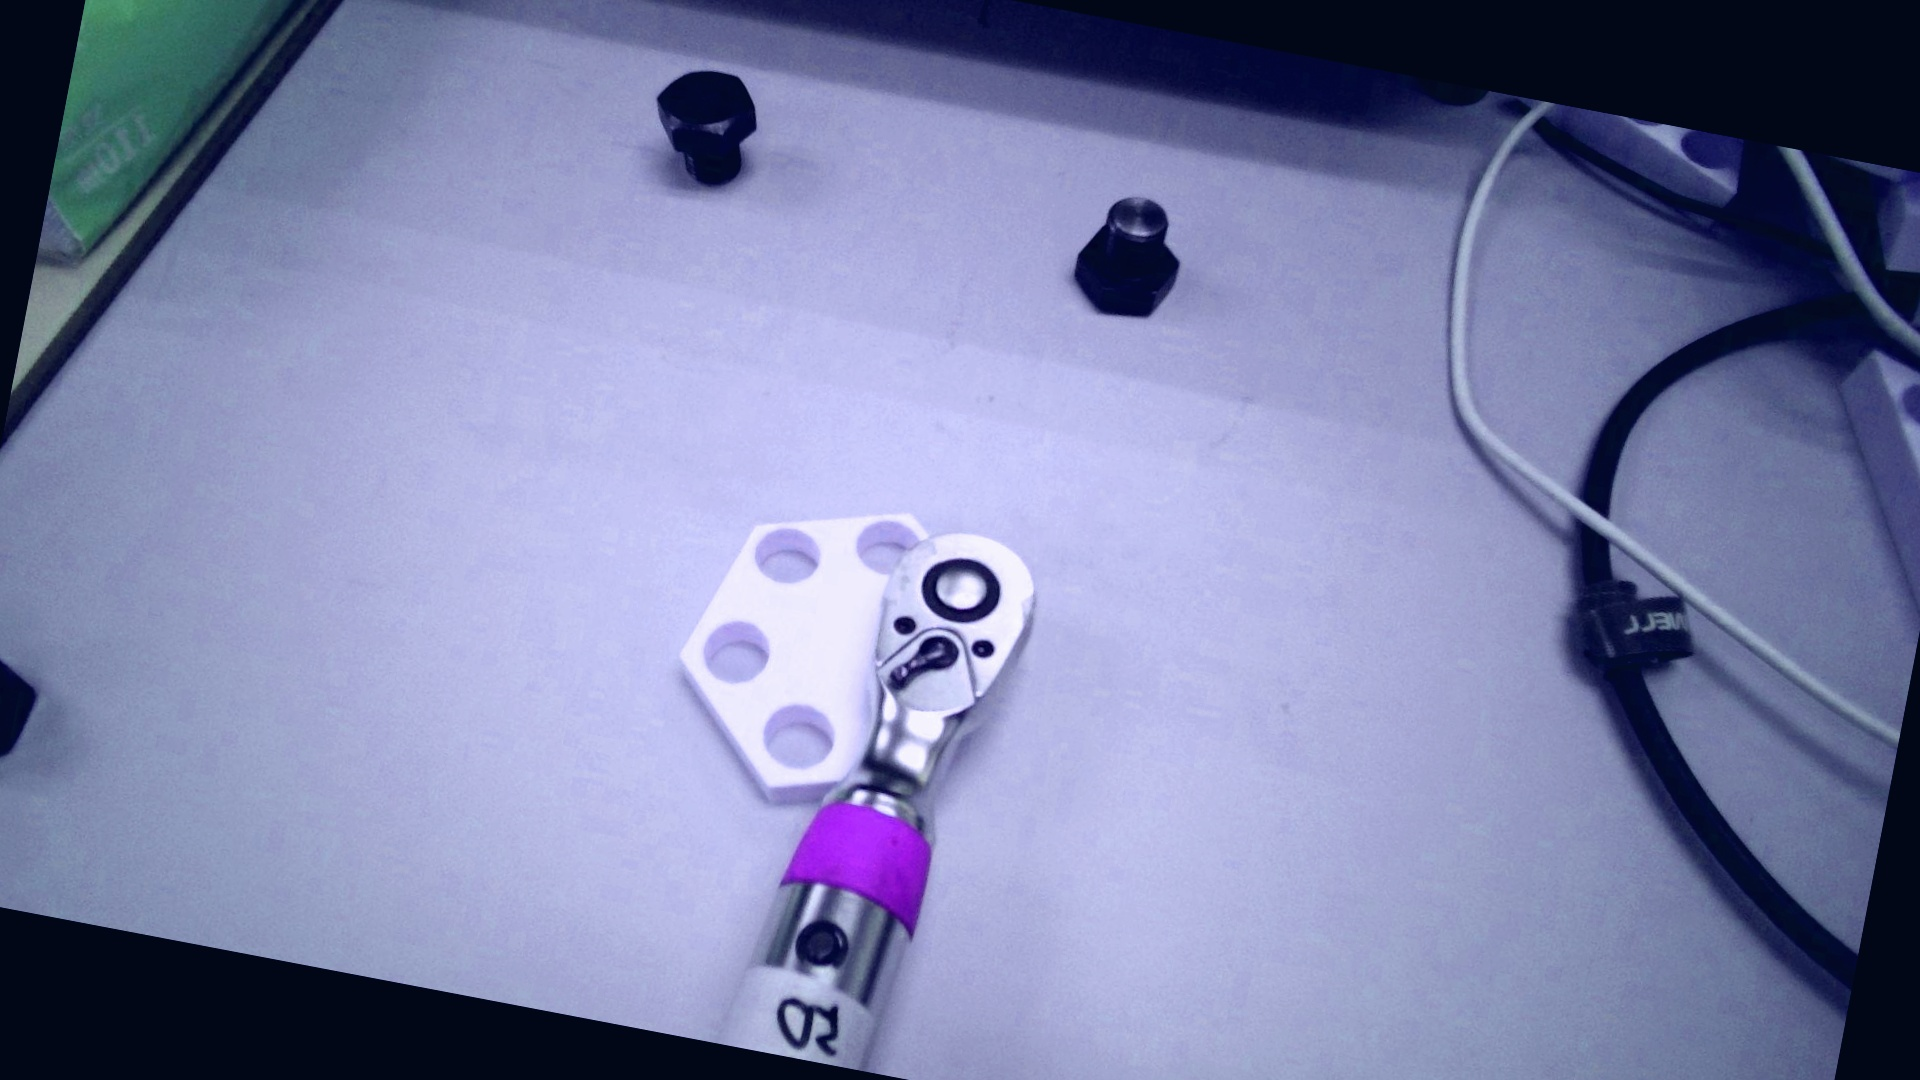hole: (756, 698, 840, 775), (698, 615, 775, 688), (750, 524, 825, 588), (849, 516, 922, 580)
obj: (654, 473, 934, 822)
wrench: (915, 551, 1004, 630)
